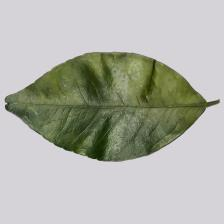healthy: (3, 52, 207, 160)
